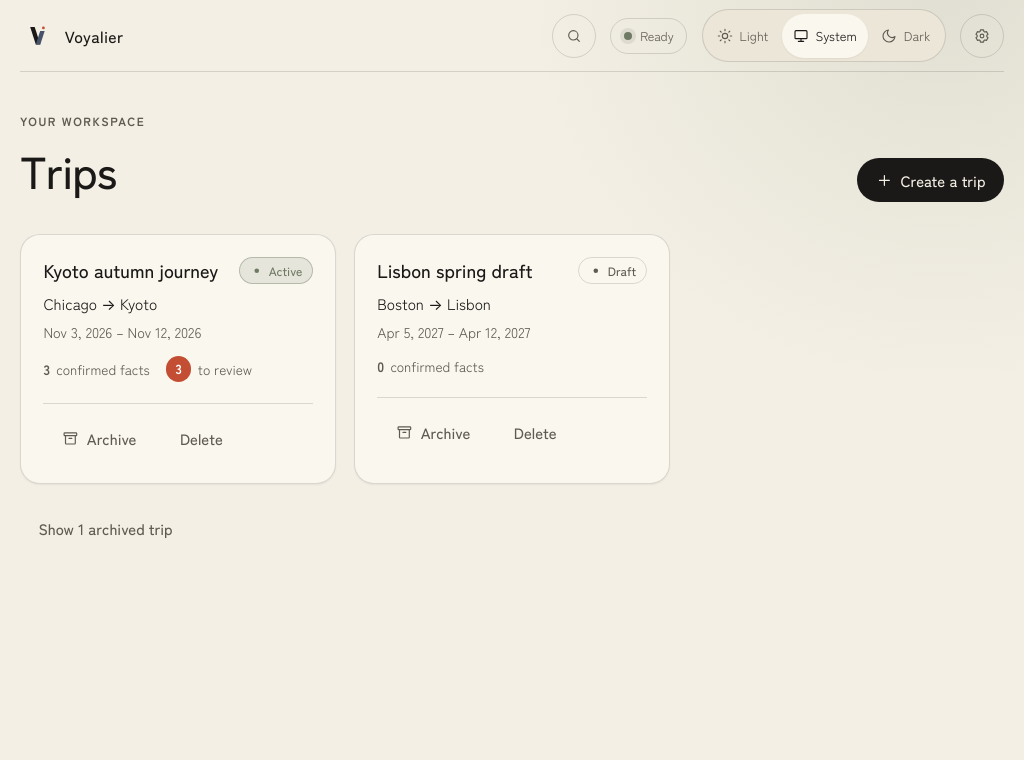
Test: City packs › lists the Hawaii island packs with their layer licenses
The image size is (1024, 760).
Click the button with aria-label "Open Kyoto autumn journey" at [131, 270], box [43,257,218,283]
(page scrolled)
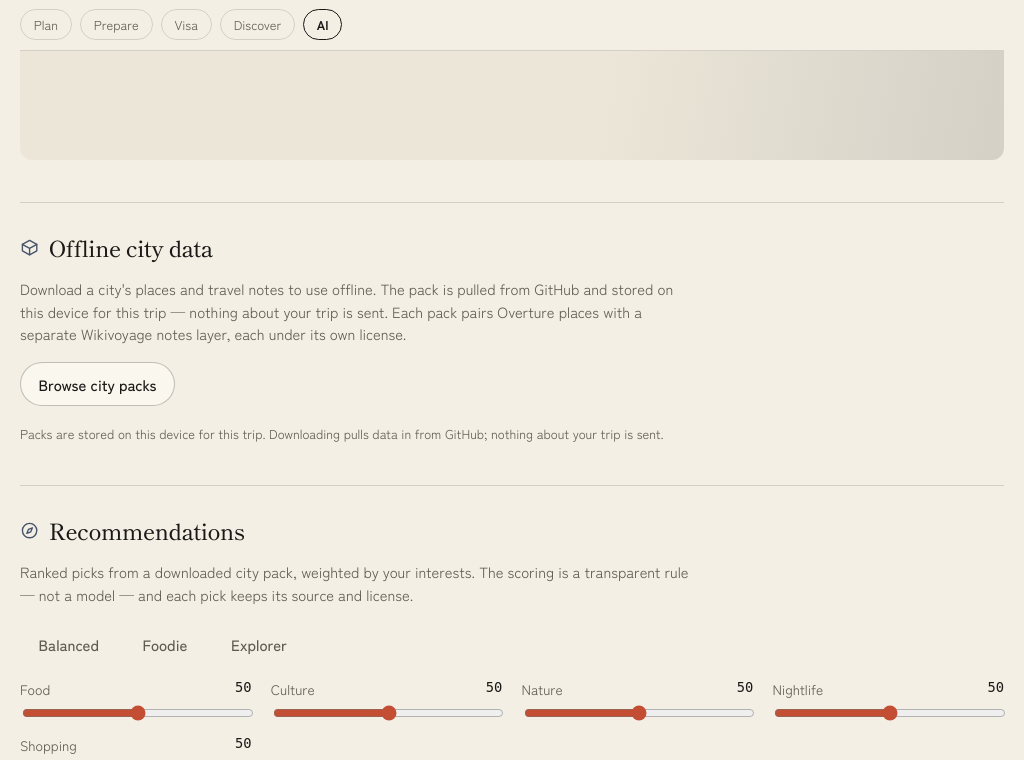
Click the button "Browse city packs" at [98, 384], box [20,362,175,406]
(page scrolled)
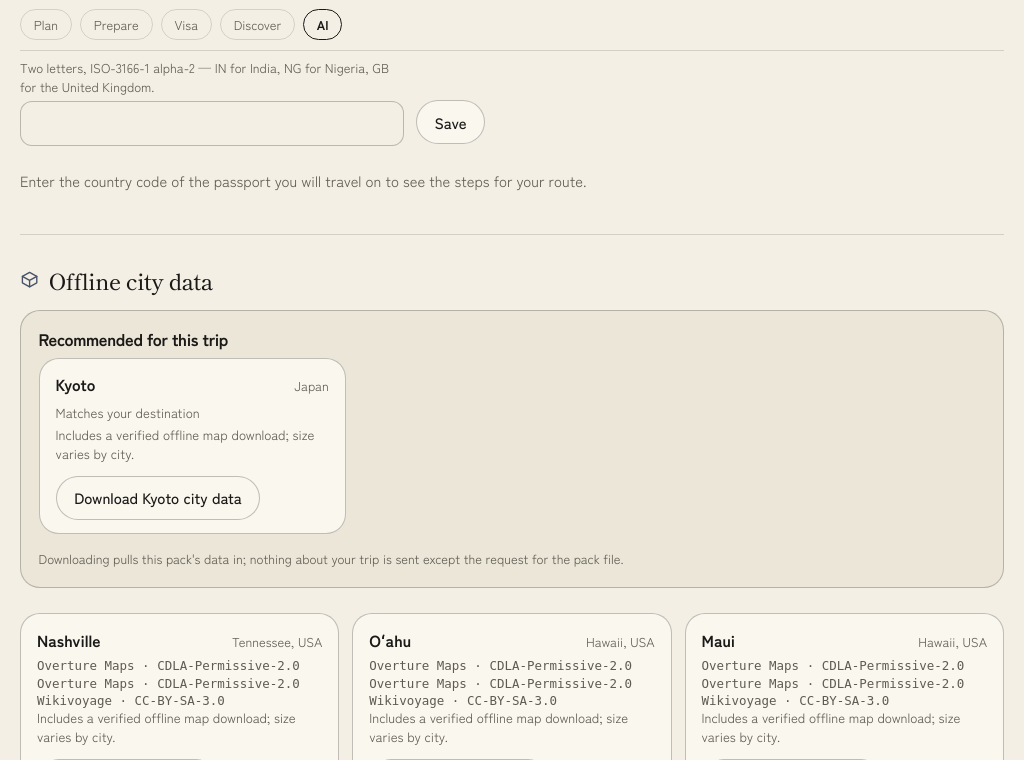
Expected: the text "Maui" is shown, [702,628,735,652]
Expected: the number of list items "Overture Maps · CDLA-Permissive-2.0" is 2, [702,658,987,674]; [702,676,987,691]
Expected: the list item "Wikivoyage · CC-BY-SA-3.0" below "Maui" is shown, [799,693,889,708]
